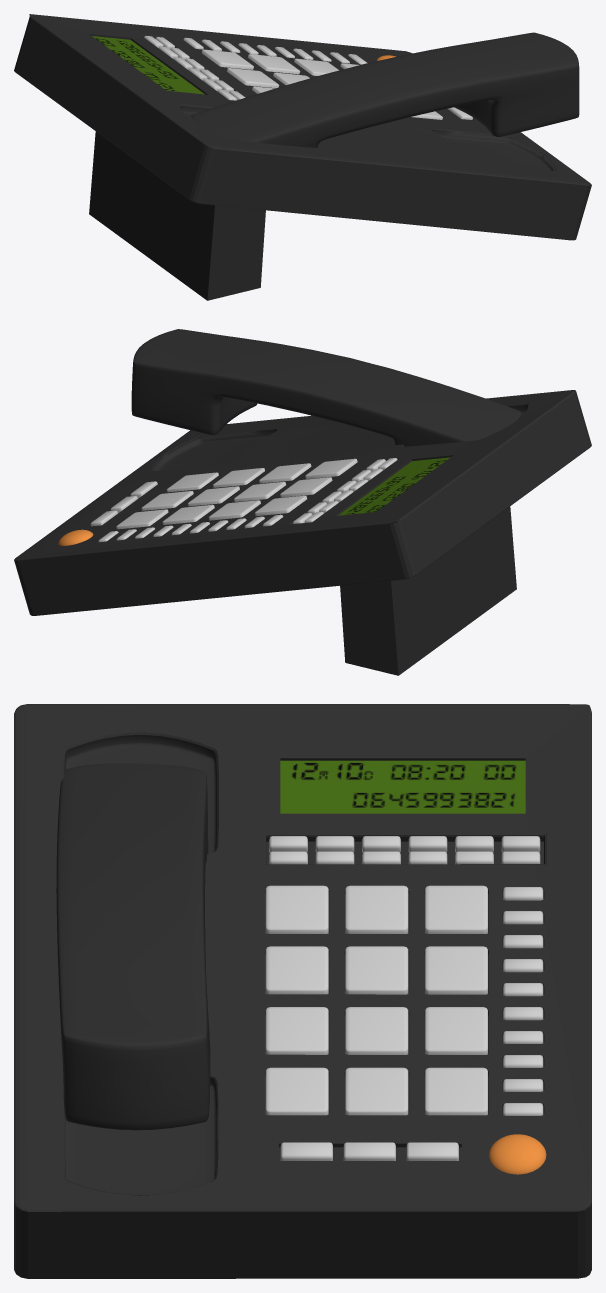
Rendered from Phone.fbx.
The picture shows the model from 3 angles, top to bottom: view 1: azimuth 30°, elevation 25°; view 2: azimuth 150°, elevation 25°; view 3: azimuth 270°, elevation 25°; orthographic projection. The views are drawn at different scales.
Parts seen in each view (by area): view 1: Body, Phone, Buttons; view 2: Body, Phone, Buttons; view 3: Body, Buttons, Phone.
Boxes of the visible parts, x1,y1,x2,y2 form: Body: [14, 14, 591, 300]; Phone: [191, 32, 579, 147]; Buttons: [144, 36, 472, 119]; Body: [14, 390, 591, 675]; Phone: [131, 329, 521, 446]; Buttons: [58, 458, 397, 545]; Body: [14, 704, 591, 1278]; Buttons: [265, 836, 546, 1174]; Phone: [56, 763, 210, 1130].
Bounding box in the file's own units: 262 × 111 × 200.
